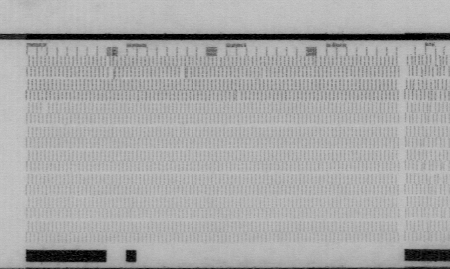Broken hole: (105, 67, 118, 80), (39, 102, 52, 113)
Oblique printing: (423, 52, 450, 79), (417, 79, 450, 100), (440, 149, 450, 171), (415, 158, 427, 173), (178, 67, 190, 80), (257, 65, 269, 78), (231, 89, 243, 101)
